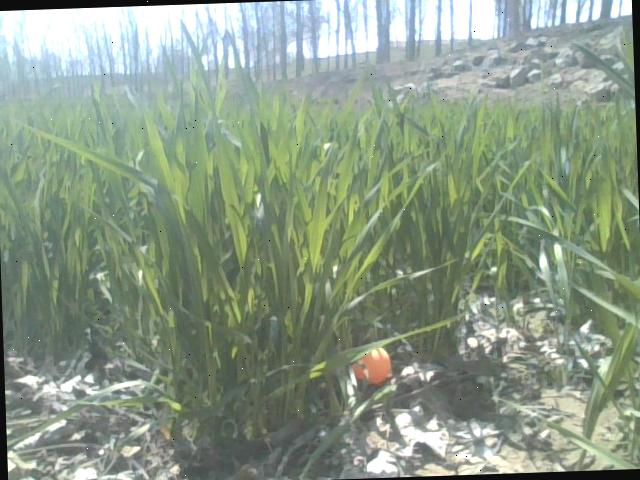ball: (355, 348, 389, 384)
